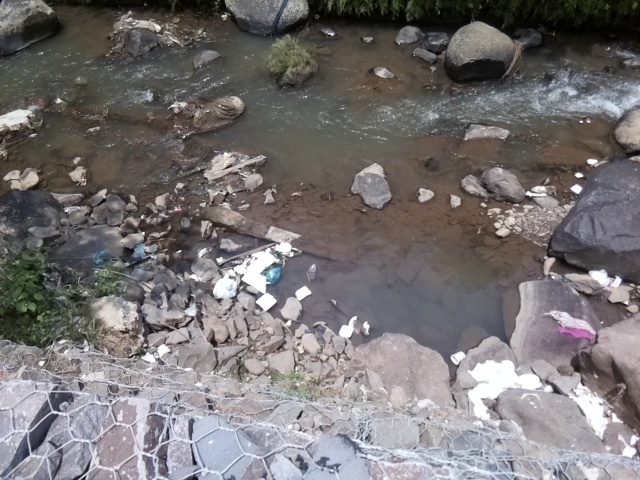Sampah_Plastik: (462, 355, 545, 408), (571, 385, 615, 436), (542, 305, 601, 341), (209, 276, 240, 300), (586, 266, 611, 288), (263, 264, 283, 285)
Sampah_Styrofoam: (238, 245, 272, 295), (253, 290, 279, 313), (337, 322, 355, 341), (273, 240, 294, 255), (293, 283, 312, 299)
